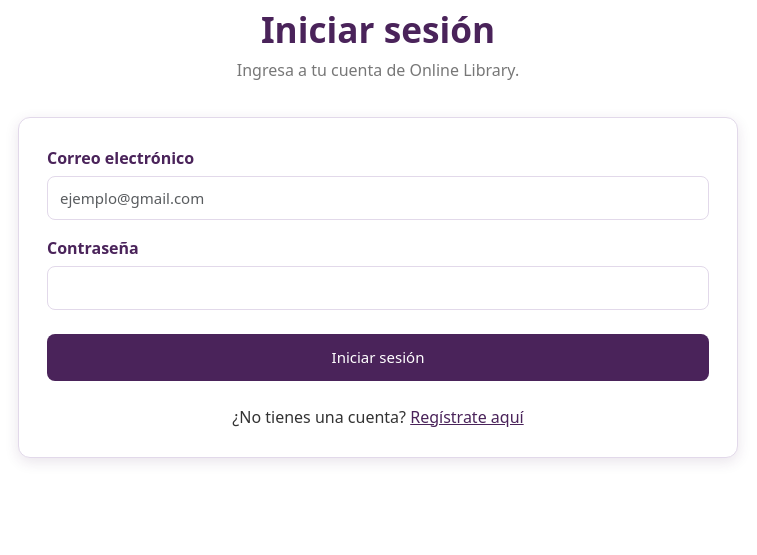
Test case: Login real › informa credenciales incorrectas y no crea sesión
In the field labelled "Correo electrónico": (378, 198) x1=47 y1=176 x2=709 y2=220, type "admin@example.com"
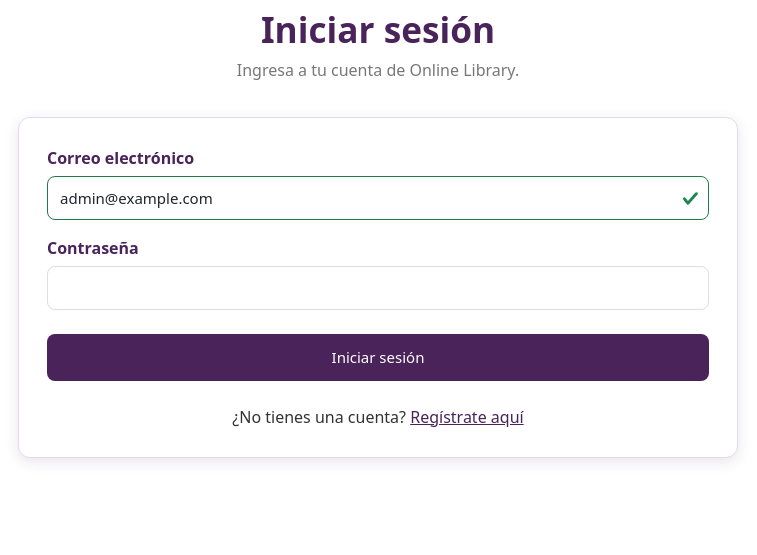
In the password field labelled "Contraseña": (378, 288) x1=47 y1=266 x2=709 y2=310, type "clave123"
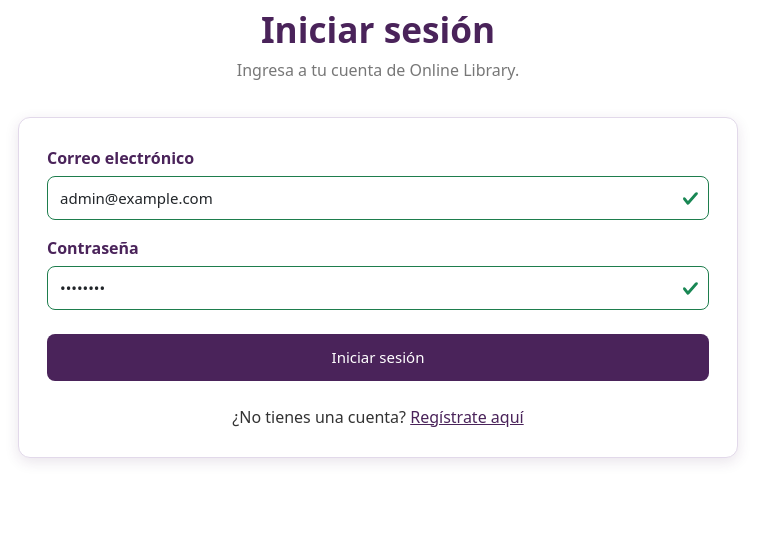
Click the button "Iniciar sesión": (378, 357) x1=47 y1=334 x2=709 y2=381
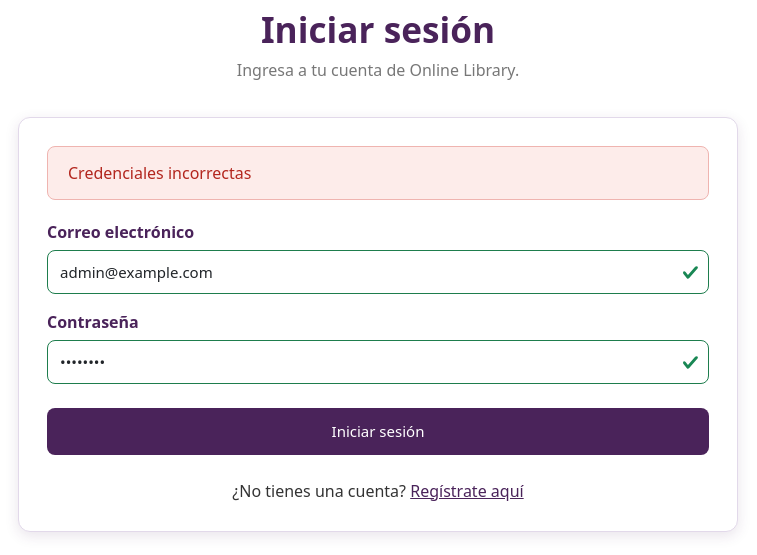
Check: the message reads "Credenciales incorrectas", box x1=68 y1=162 x2=251 y2=184
